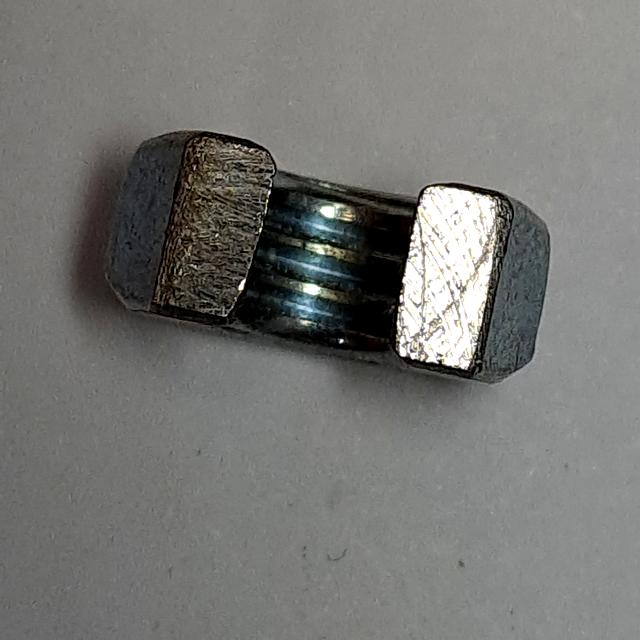Side-Fracture: (94, 113, 566, 402)
